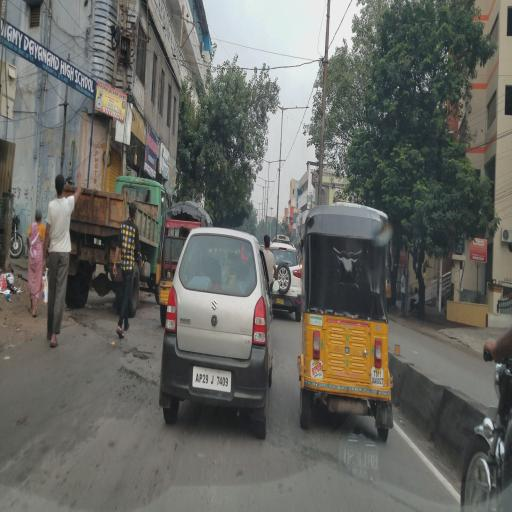street_light_0: (280, 96, 312, 117), (270, 146, 288, 174), (264, 172, 278, 190), (255, 170, 269, 188)
